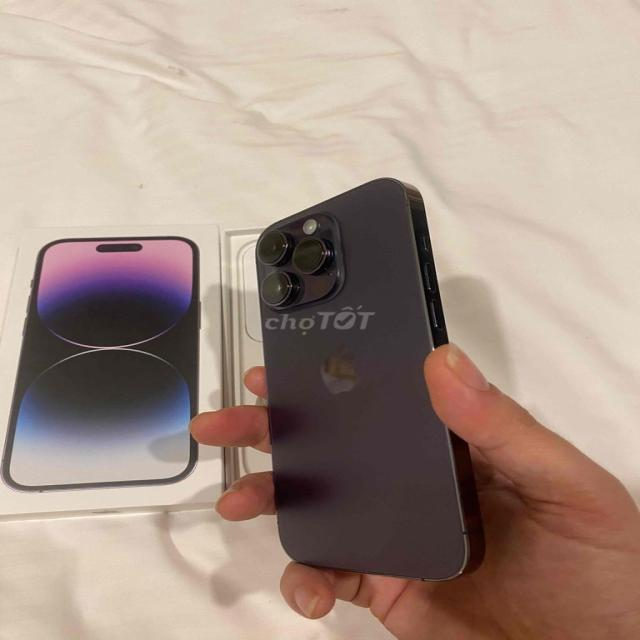gen_14: (240, 171, 491, 592)
